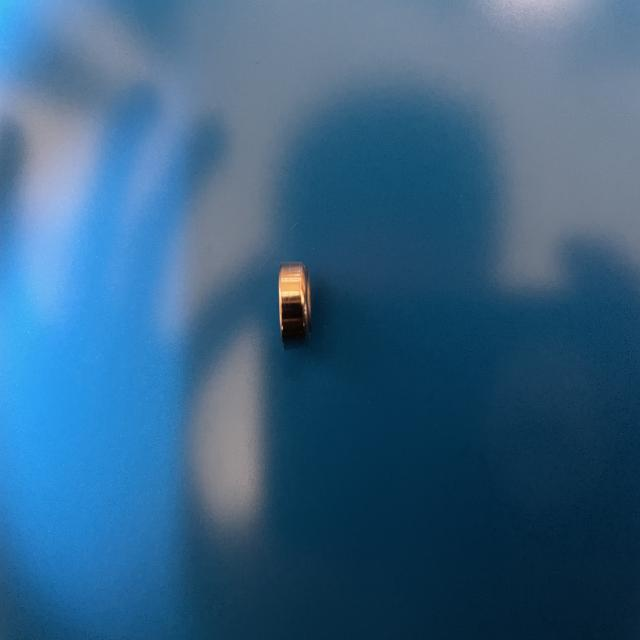COIN: (276, 256, 316, 350)
